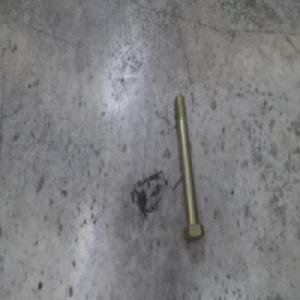Bolt: (168, 92, 199, 240)
